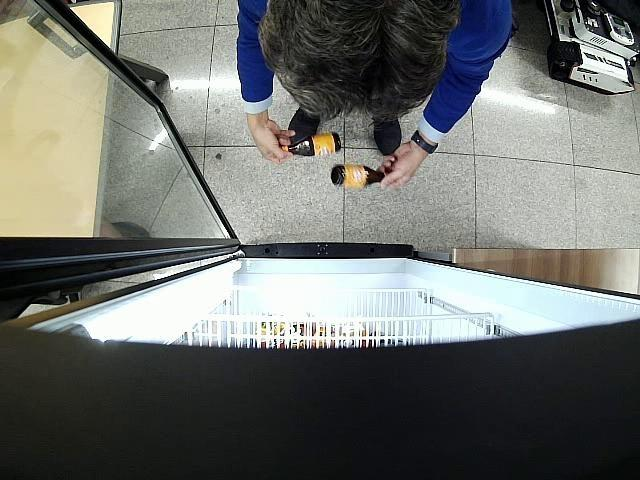17_vita500: (282, 132, 341, 156), (331, 165, 384, 188)
